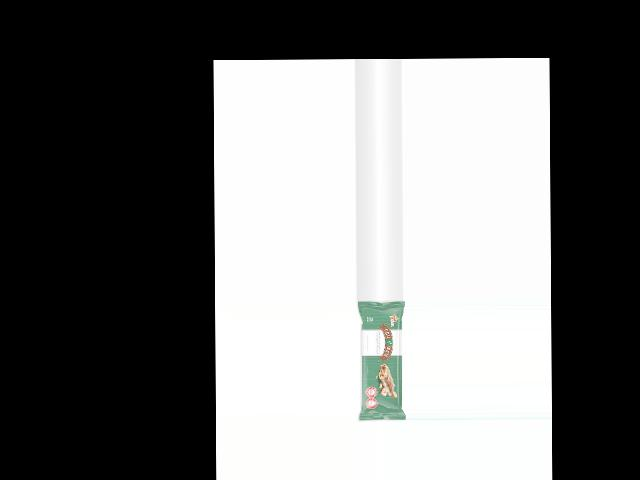chocolate: (355, 299, 405, 421)
